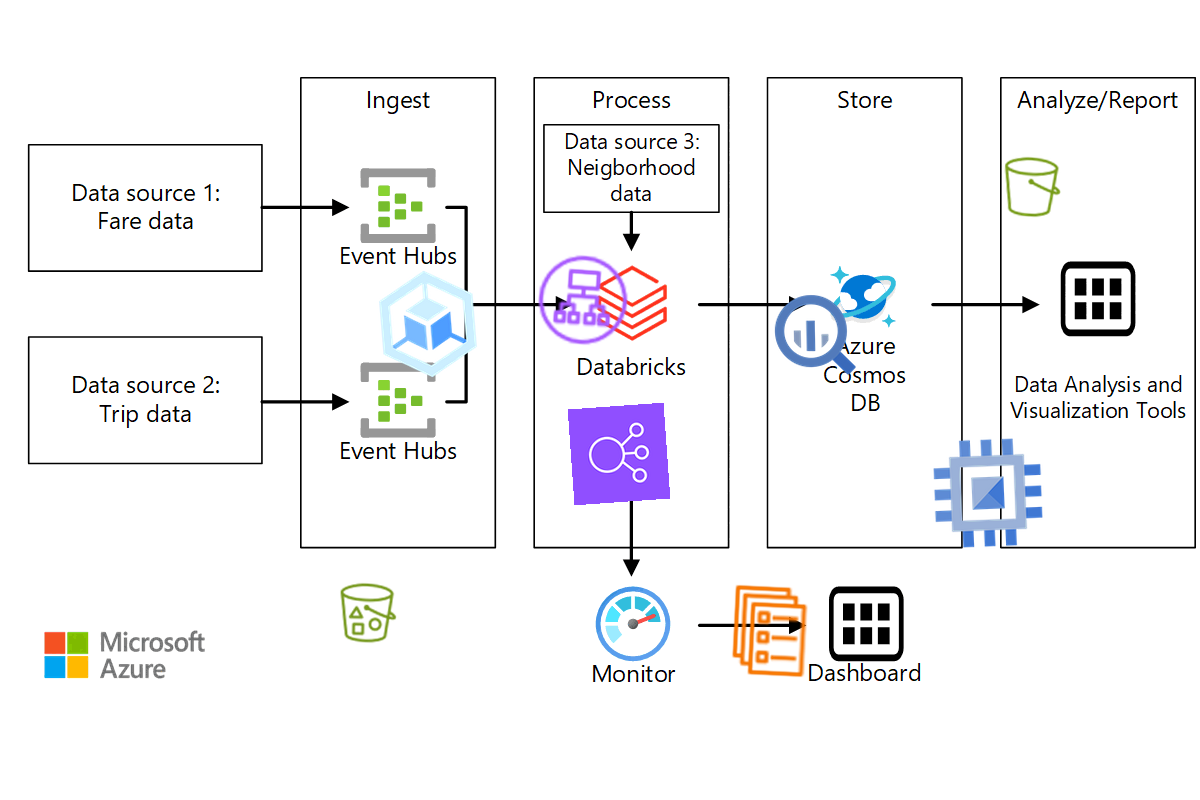aws_elastic_container_service_service: (719, 580, 821, 682)
aws_elastic_load_balancing: (567, 402, 671, 506)
aws_elastic_load_balancing_application_load_balancer: (531, 248, 635, 352)
aws_simple_storage_service_bucket_with_objects: (334, 579, 402, 647)
aws_simple_storage_service_s3_standard: (998, 153, 1066, 221)
gcp_bigquery: (766, 286, 864, 384)
gcp_compute_engine: (921, 426, 1055, 560)
gcp_google_kubernetes_engine: (358, 254, 498, 394)
